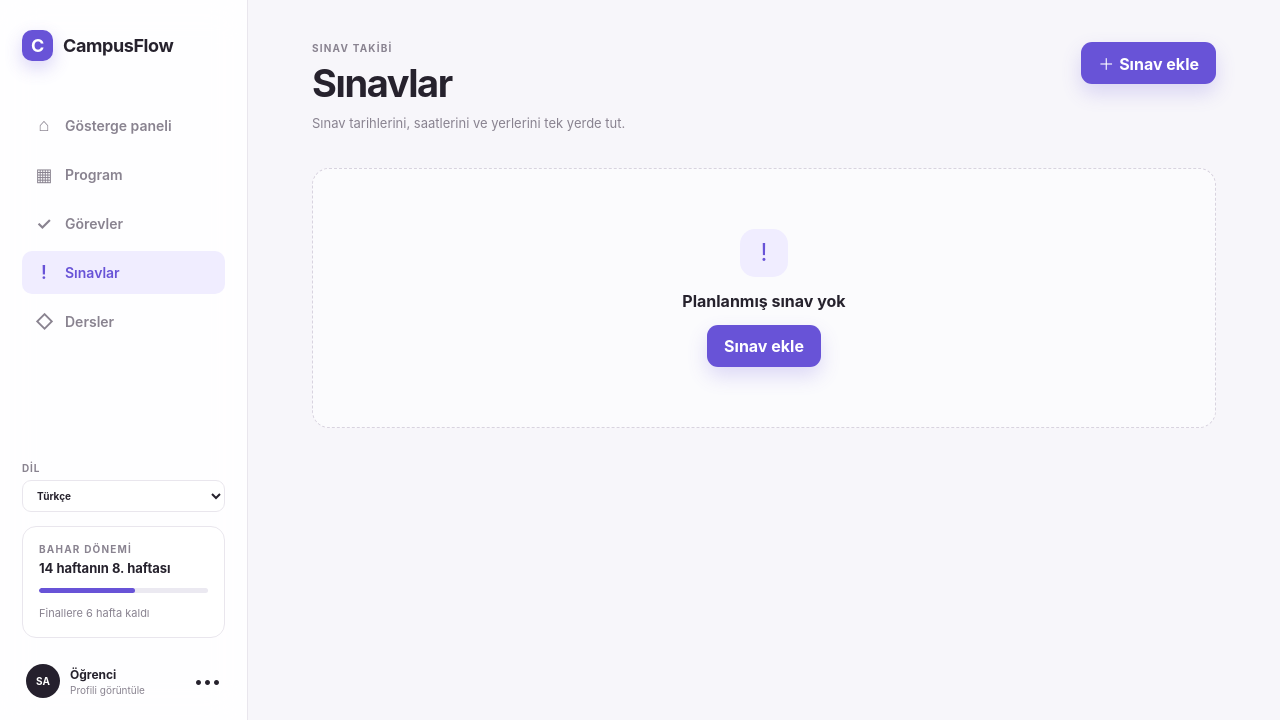
it: CampusFlow web application › creates an exam from the exams page
Check: the text "Planlanmış sınav yok" is shown, box [682,290,846,310]
Click the button "＋Sınav ekle" at [1149, 63], box [1081,42,1216,84]
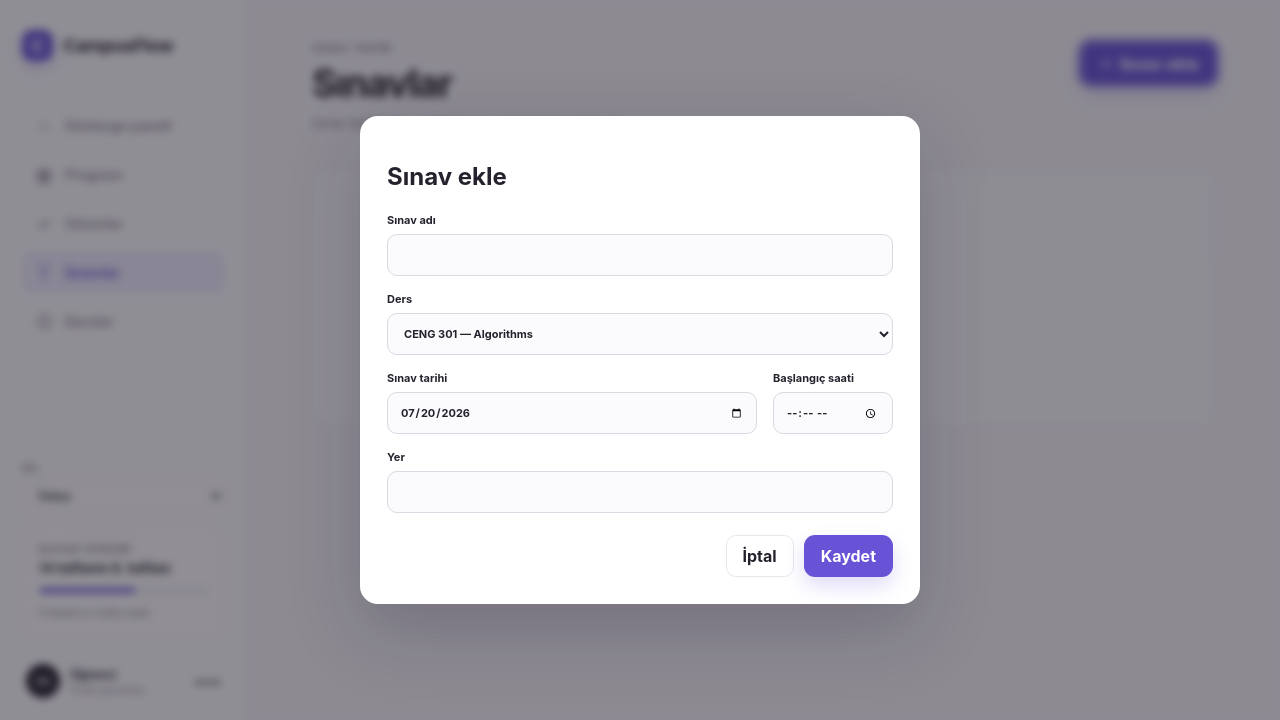
Type "Midterm" into the field labelled "Sınav adı" at [640, 256], box [387,234,893,276]
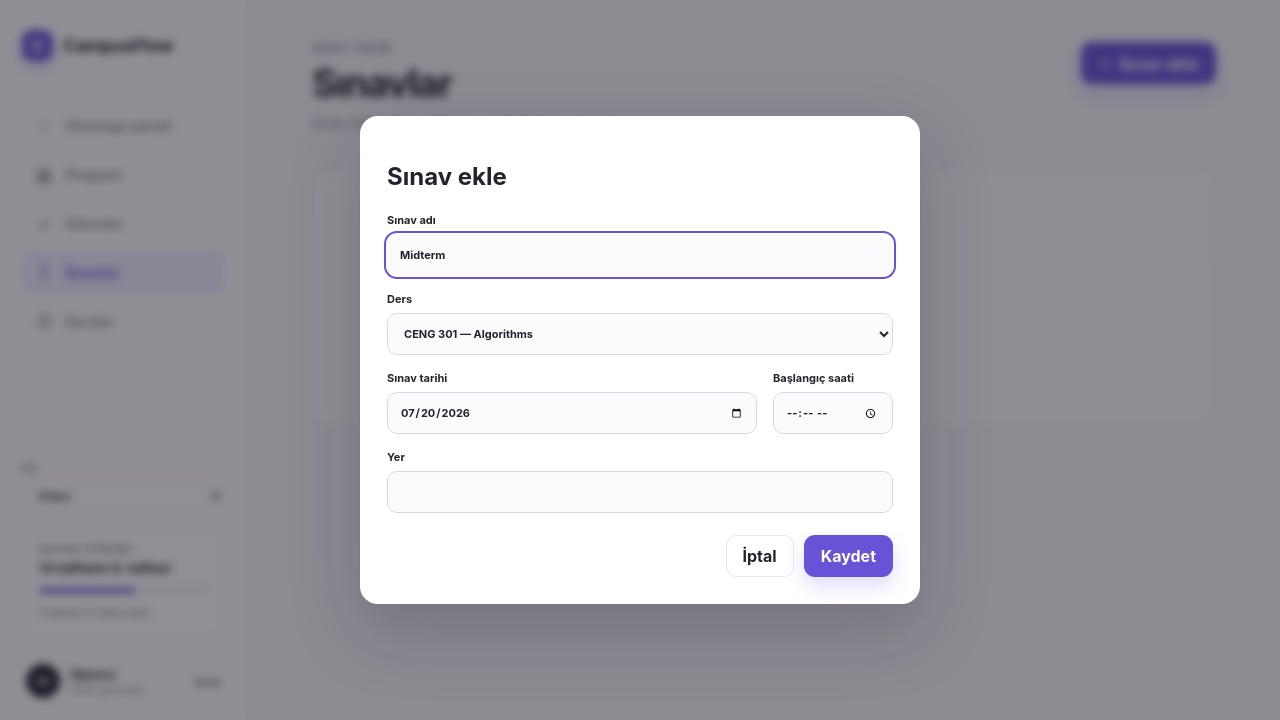
Type "2026-07-25" into the date field labelled "Sınav tarihi" at [572, 414], box [387,392,757,434]
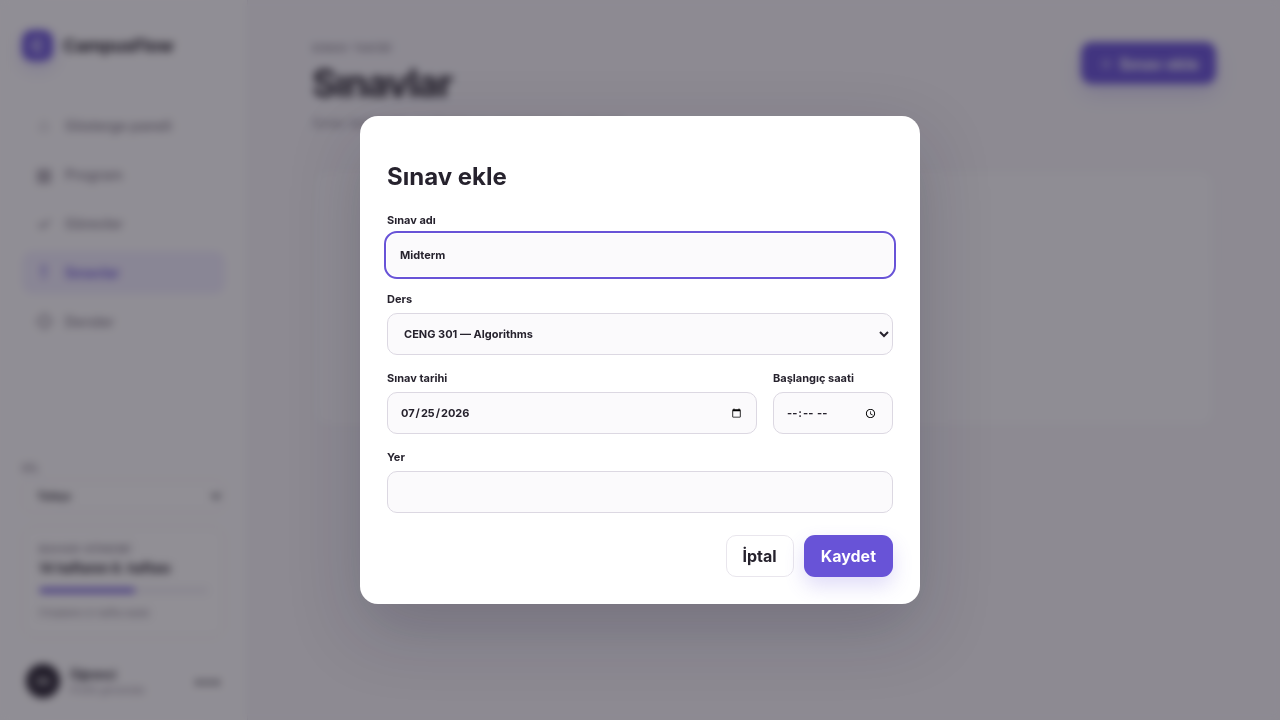
Click the button "Kaydet" at [848, 556], box [804,536,893,578]
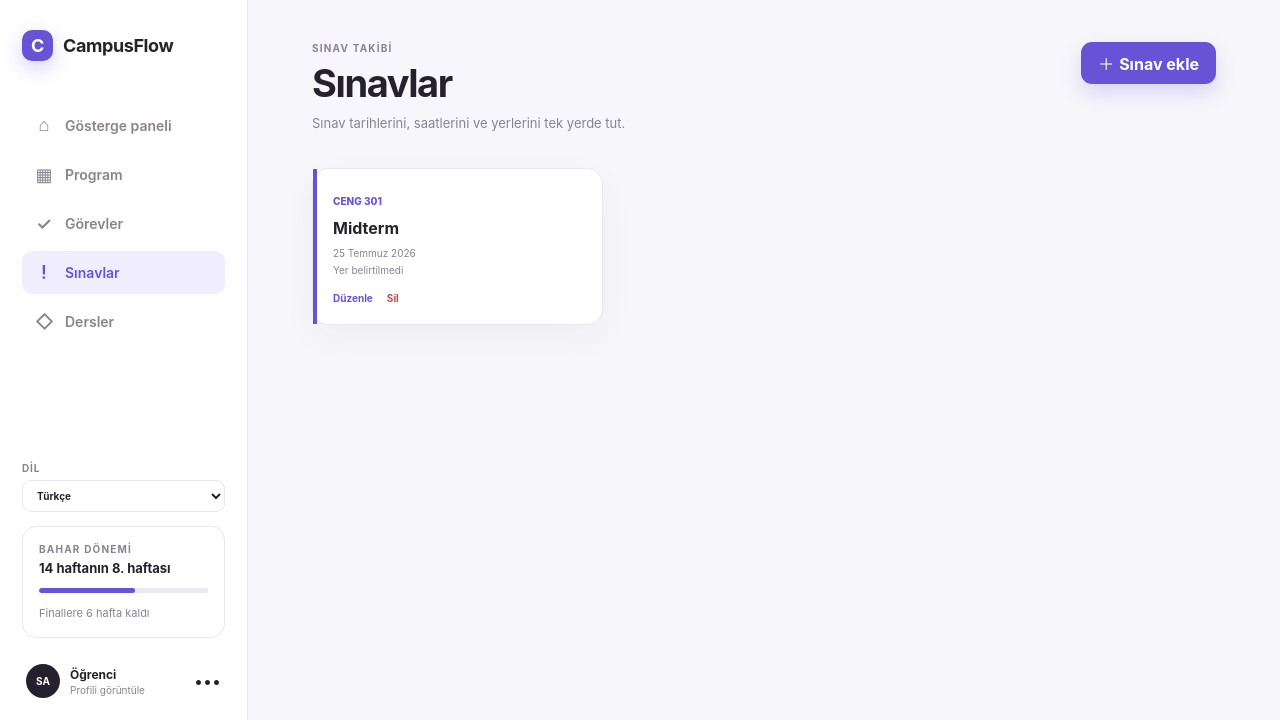
Check: the heading "Midterm" is shown, box [333,218,399,238]
